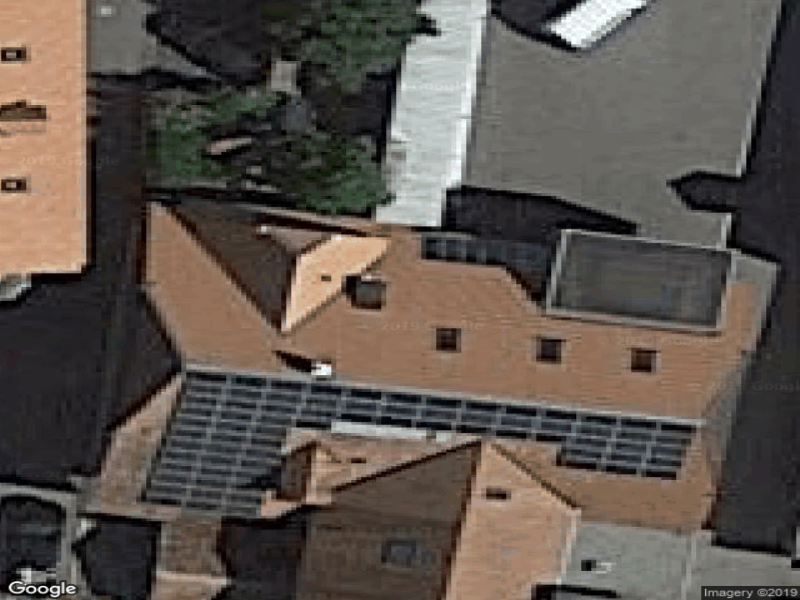pv: (146, 364, 692, 522)
